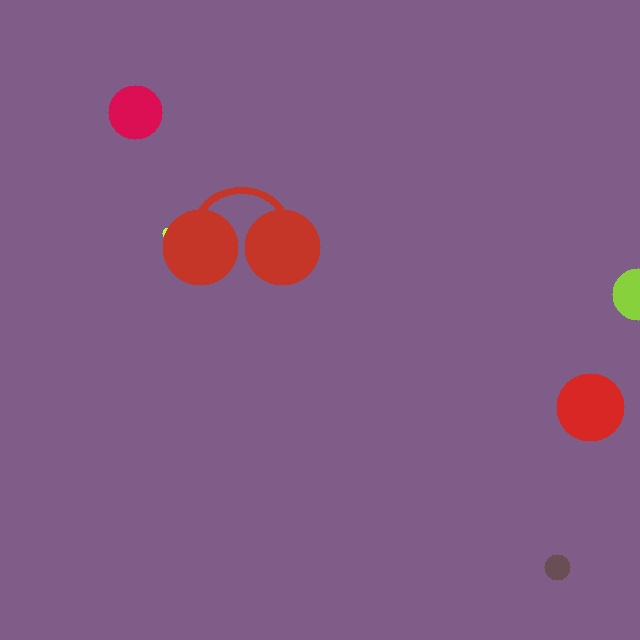over_ear: (158, 181, 324, 289)
